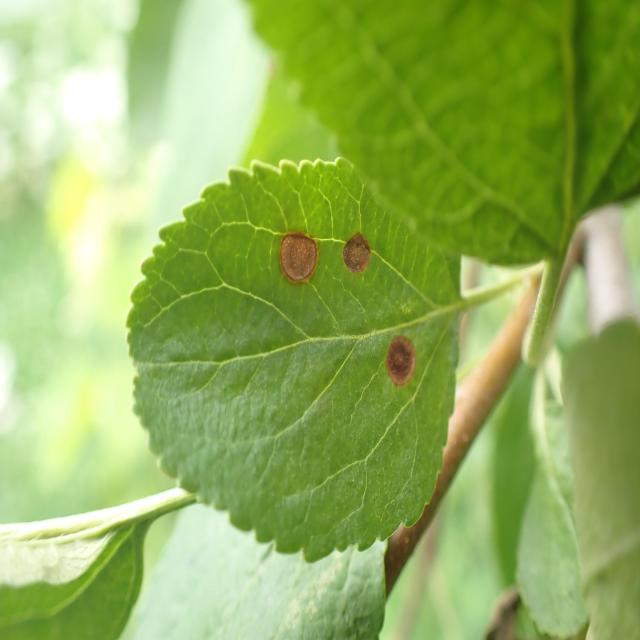frog-eye-leaf-spot: (124, 155, 463, 565)
